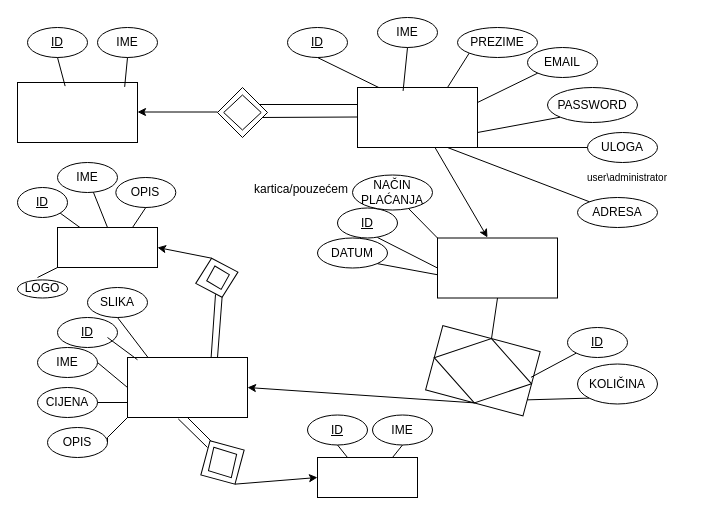
The diagram is 725 pixels wide and 515 high, and some of its shapes have lost their labels. The shapes that lost their labels are listed below. From the top down, each one's box as (x1, y1, x2, y2) in pixels, then its label:
(16, 82, 138, 142): GRAD
(356, 86, 478, 148): KORISNIK
(56, 226, 158, 268): PROIZVOĐAČ
(436, 237, 558, 298): KUPOVINA
(126, 356, 248, 418): PROIZVOD
(424, 324, 540, 416): STAVKA KUPOVINE
(316, 456, 418, 498): TIP
